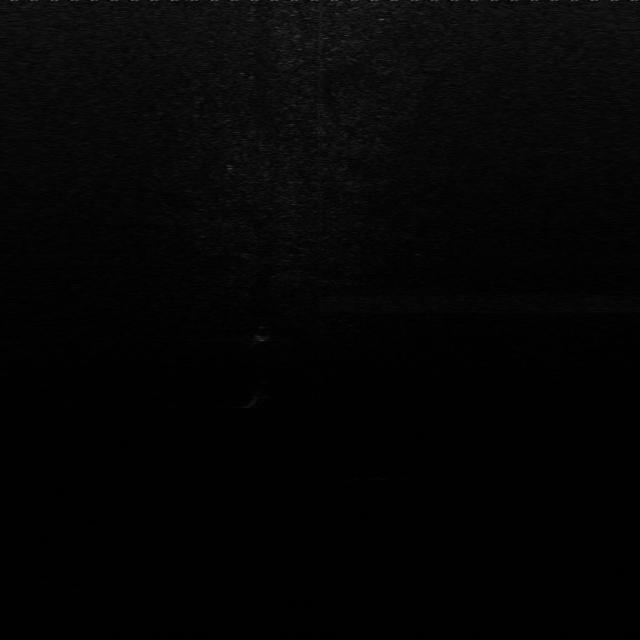ball: (248, 320, 277, 344)
tyre: (234, 389, 264, 414)
